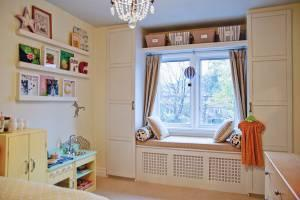window: (144, 55, 245, 133)
